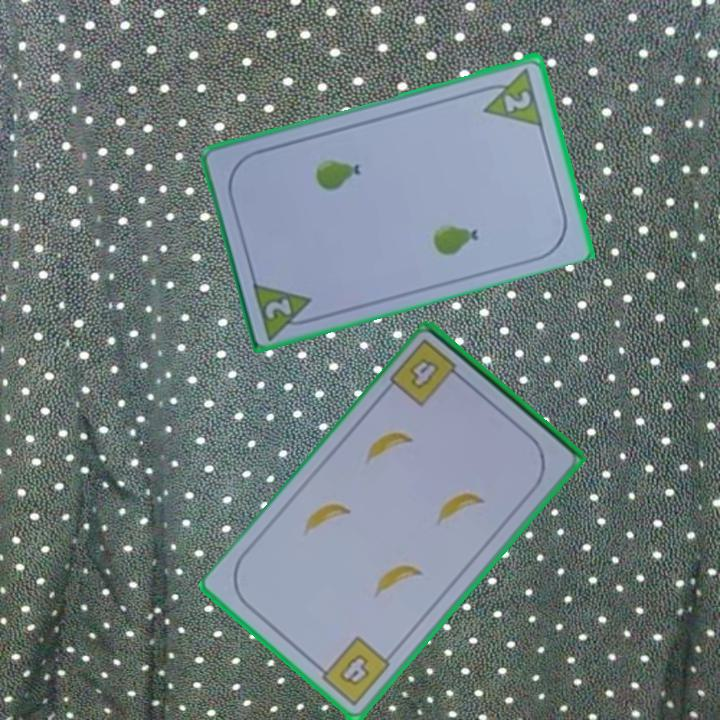2p: (248, 276, 322, 340), (475, 63, 546, 128)
4b: (312, 633, 393, 710), (405, 355, 443, 393)
